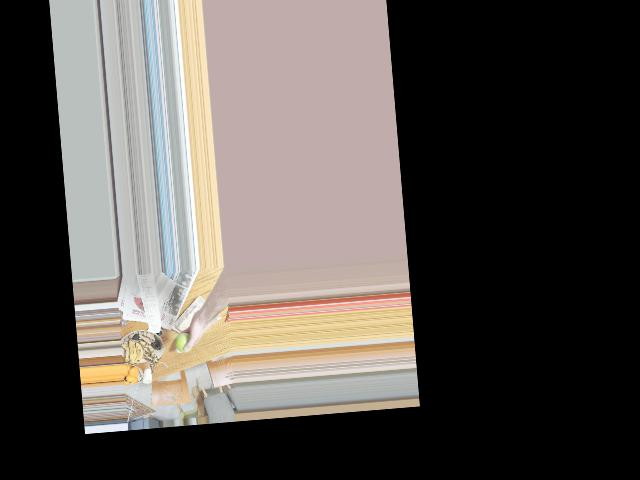apple: (174, 330, 196, 353)
